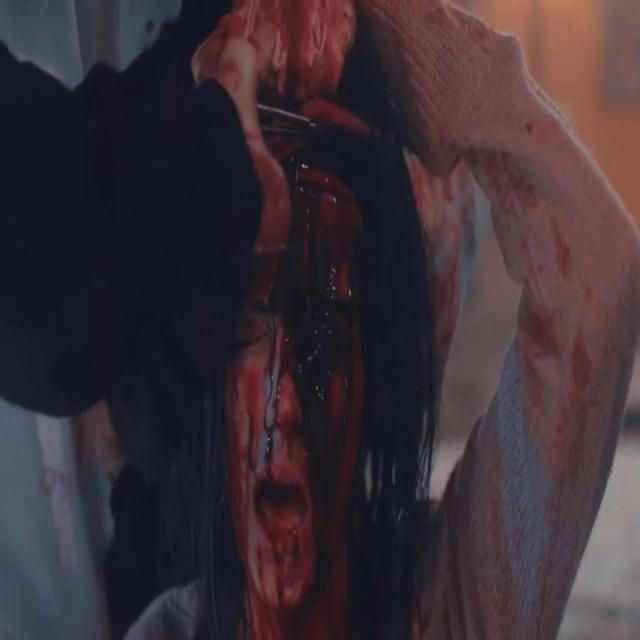flood: (215, 36, 378, 622)
